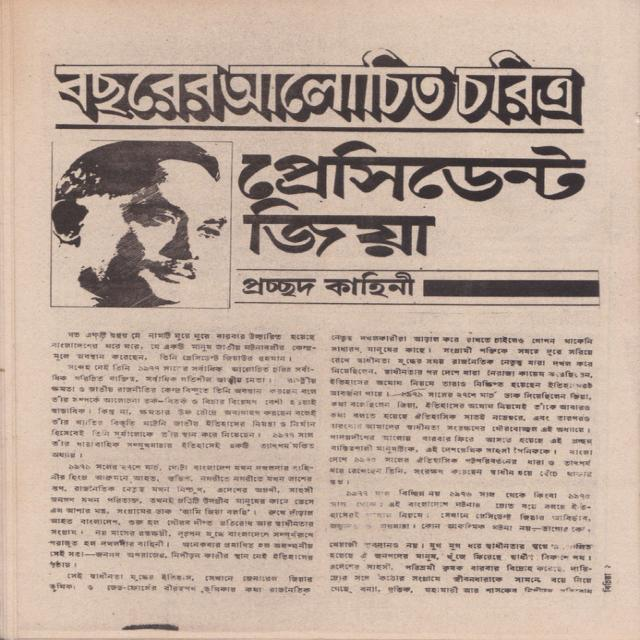image: (49, 140, 231, 305)
page number: (602, 561, 613, 569)
paragraph: (328, 332, 599, 489), (42, 457, 318, 571), (45, 358, 323, 464), (320, 538, 598, 599), (322, 488, 596, 537), (41, 327, 327, 363), (42, 568, 319, 599)
text: (599, 571, 614, 594)
title: (41, 39, 607, 135), (233, 132, 601, 265), (235, 270, 424, 301)
